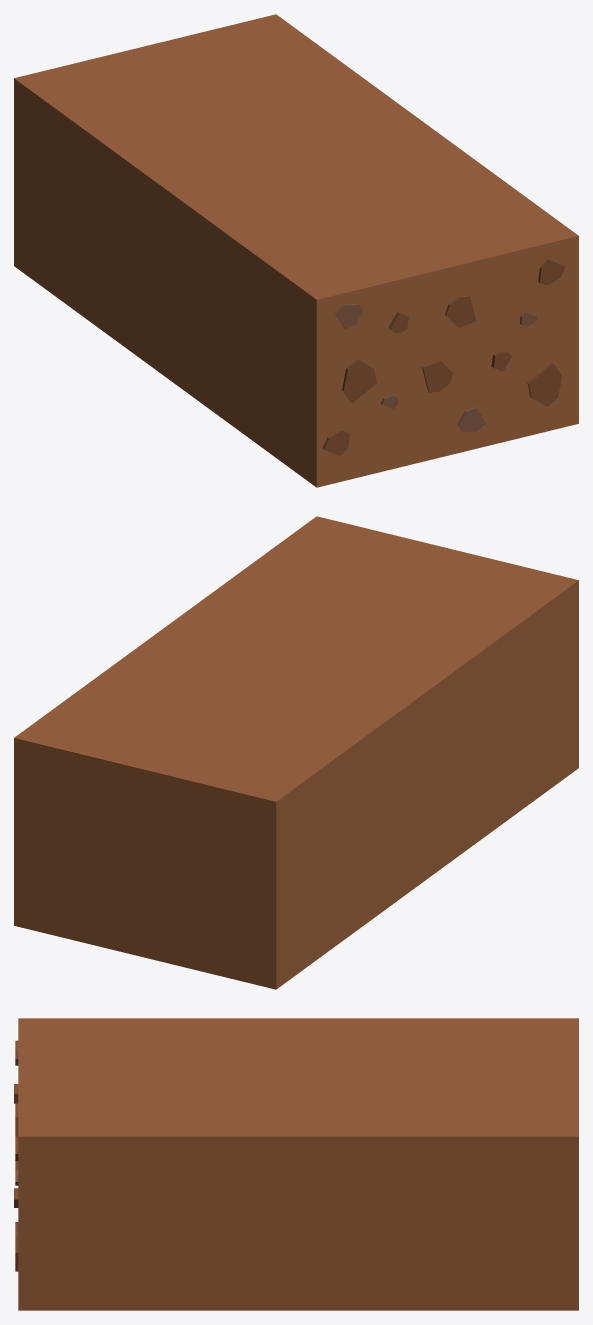
The model's file is underground_01.fbx.
3 renders of one model, top to bottom at view 1: azimuth 30°, elevation 25°; view 2: azimuth 150°, elevation 25°; view 3: azimuth 270°, elevation 25°, orthographic. The views are drawn at different scales.
Visible parts, largest first — view 1: underground_01; view 2: underground_01; view 3: underground_01.
Part boxes in pixels (left/top/right/bottom): underground_01: left=14, top=14, right=578, bottom=487; underground_01: left=14, top=516, right=578, bottom=989; underground_01: left=14, top=1018, right=578, bottom=1310.
Bounding box in the file's own units: 192 × 131 × 387.
